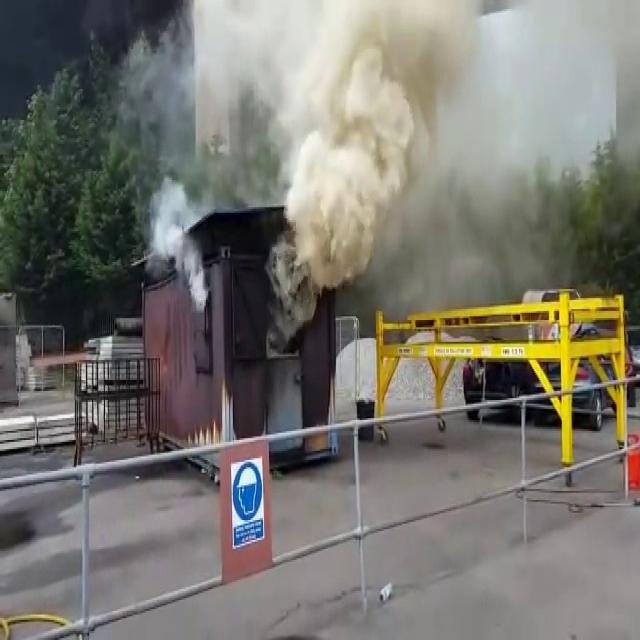Smoke: (245, 0, 488, 347)
